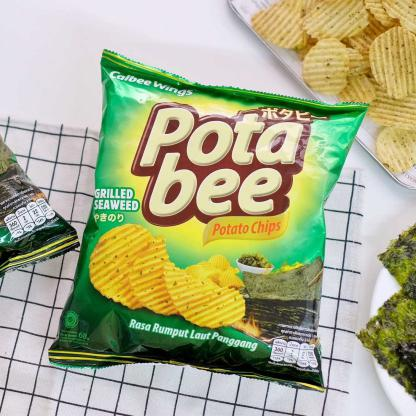potatochip: (47, 51, 363, 393)
